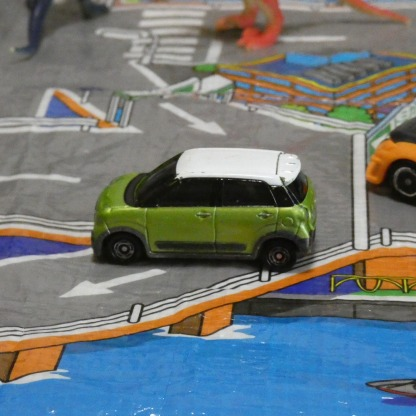car: (91, 143, 312, 270), (364, 113, 416, 211)
